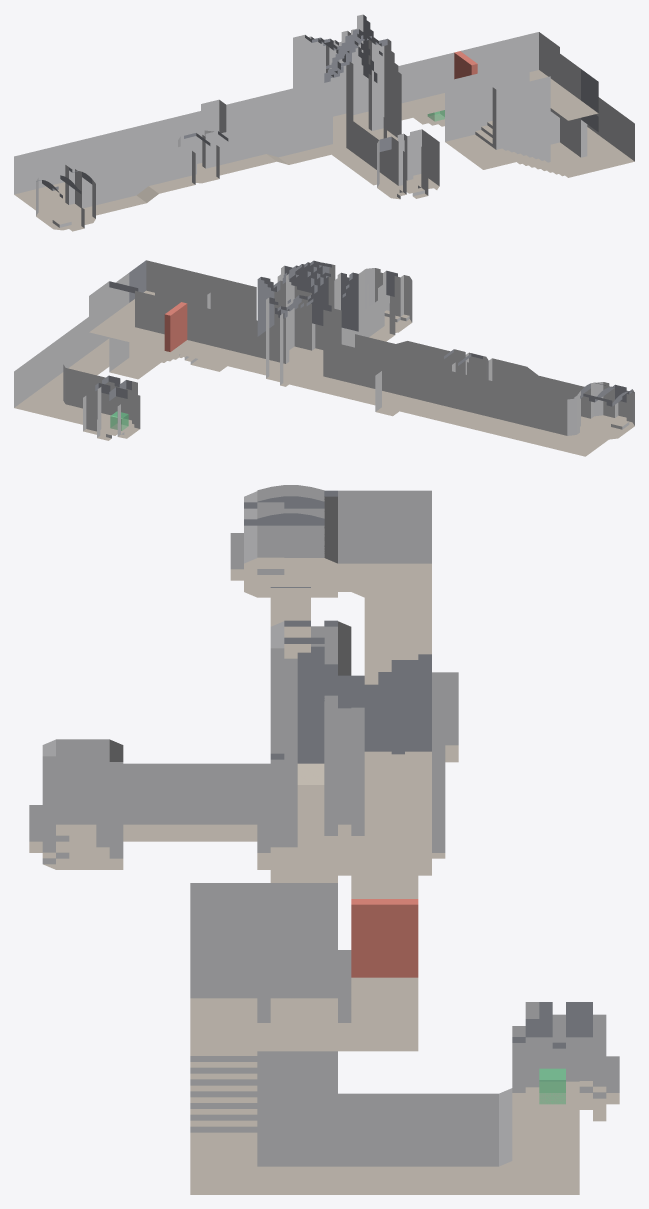
File: habitat_04.glb
3 renders of one model, top to bottom at view 1: azimuth 30°, elevation 25°; view 2: azimuth 150°, elevation 25°; view 3: azimuth 270°, elevation 25°, orthographic. The views are drawn at different scales.
Parts seen in each view (by area): view 1: room:5, corridor:5, corridor:1, room:1, corridor:3, corridor:2, room:1/portals, corridor:4, room:0, room:4, corridor:0, room:1/cavern (+6 smaller); view 2: corridor:5, corridor:1, room:5, corridor:4, room:1/cavern, room:1, room:1/portals, room:4, corridor:3, room:2, corridor:2, entities (+9 smaller); view 3: room:5, corridor:4, corridor:5, corridor:0, room:1, room:1/cavern, room:4, room:1/portals, room:2, corridor:1, room:0, entities (+7 smaller).
Boxes of the visible parts, box(x1,y1,x2,y2) form: room:5: box(445, 54, 598, 177); corridor:5: box(14, 88, 292, 212); corridor:1: box(363, 32, 559, 120); room:1: box(293, 30, 401, 156); corridor:3: box(82, 145, 195, 215); corridor:2: box(218, 115, 330, 173); room:1/portals: box(314, 14, 384, 152); corridor:4: box(581, 97, 634, 170); room:0: box(377, 129, 439, 199); room:4: box(36, 167, 95, 230); corridor:0: box(335, 121, 391, 185); room:1/cavern: box(305, 15, 387, 82); corridor:5: box(318, 343, 608, 456); corridor:1: box(89, 281, 274, 373); room:5: box(109, 260, 256, 379); corridor:4: box(14, 317, 144, 424); room:1/cavern: box(257, 260, 358, 336); room:1: box(258, 264, 335, 391); room:1/portals: box(266, 273, 341, 378); room:4: box(574, 382, 634, 439); corridor:3: box(488, 358, 590, 425); room:2: box(83, 375, 140, 438); corridor:2: box(355, 334, 453, 368); entities: box(110, 302, 187, 430); room:5: box(190, 883, 337, 1160); corridor:4: box(190, 1088, 579, 1194); corridor:5: box(338, 490, 458, 824); corridor:0: box(123, 763, 270, 841); room:1: box(270, 648, 431, 886); room:1/cavern: box(270, 646, 431, 763); room:4: box(244, 485, 337, 597); room:1/portals: box(270, 658, 364, 847); room:2: box(512, 1002, 606, 1121); corridor:1: box(338, 887, 418, 1051); room:0: box(42, 739, 123, 869); entities: box(351, 899, 565, 1104).
Size of the model in its own units: 93 by 25.5 by 44.
